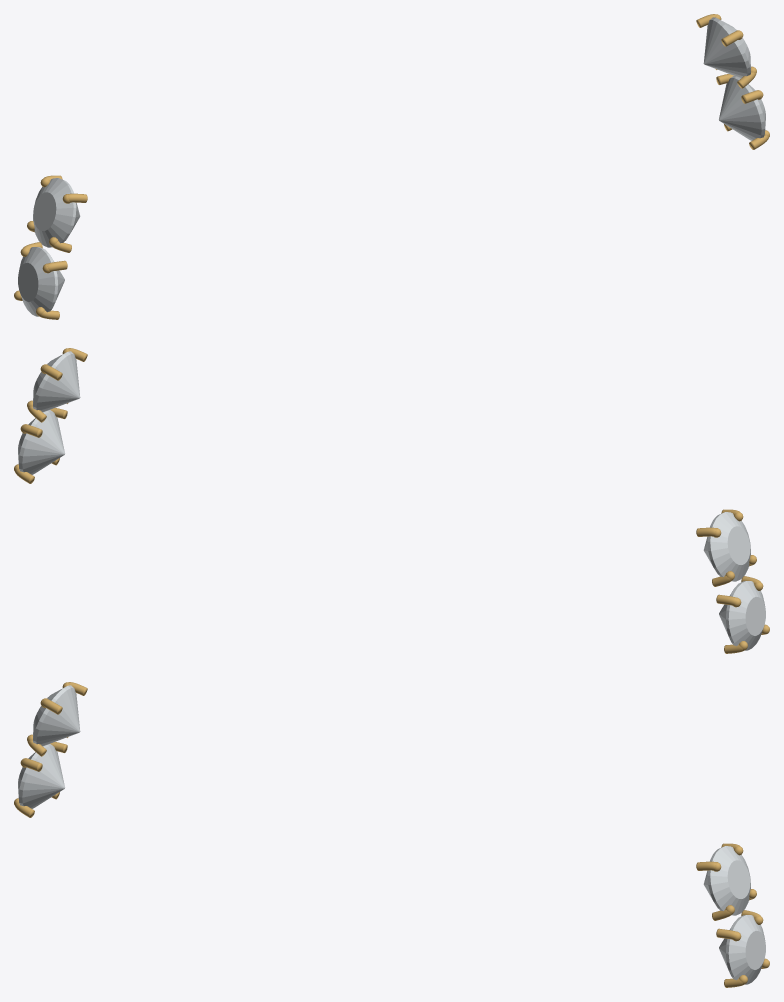
File: accents-scalloped-u-cut-multi.glb
3 views of the same model, one above another, from view 1: azimuth 30°, elevation 25°; view 2: azimuth 150°, elevation 25°; view 3: azimuth 330°, elevation 25° (orthographic).
Visible parts, largest first — view 1: Gem, Gem.001, Gem.003, Gem.002; view 2: Gem, Gem.001, Gem.003, Gem.002; view 3: Gem.002, Gem.003, Gem.001, Gem.
Boxes of the visible parts, box(x1,y1,x2,y2) form: Gem: box(33, 178, 80, 247); Gem.001: box(18, 247, 64, 316); Gem.003: box(719, 76, 765, 140); Gem.002: box(703, 17, 750, 78); Gem: box(703, 512, 750, 581); Gem.001: box(719, 581, 765, 650); Gem.003: box(18, 410, 64, 474); Gem.002: box(33, 351, 80, 412); Gem.002: box(703, 846, 750, 915); Gem.003: box(719, 915, 765, 984); Gem.001: box(18, 744, 64, 808); Gem: box(33, 685, 80, 746).
Size of the model in its own units: 19.86 by 3.27 by 1.65.
